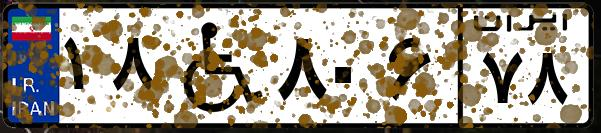0: (330, 28, 385, 110)
1: (57, 26, 110, 100)
6: (385, 28, 445, 110)
7: (475, 38, 525, 113)
8: (270, 28, 330, 110), (525, 38, 570, 115), (110, 28, 158, 98)
ژ (معلولین و جانبازان): (158, 12, 270, 120)
